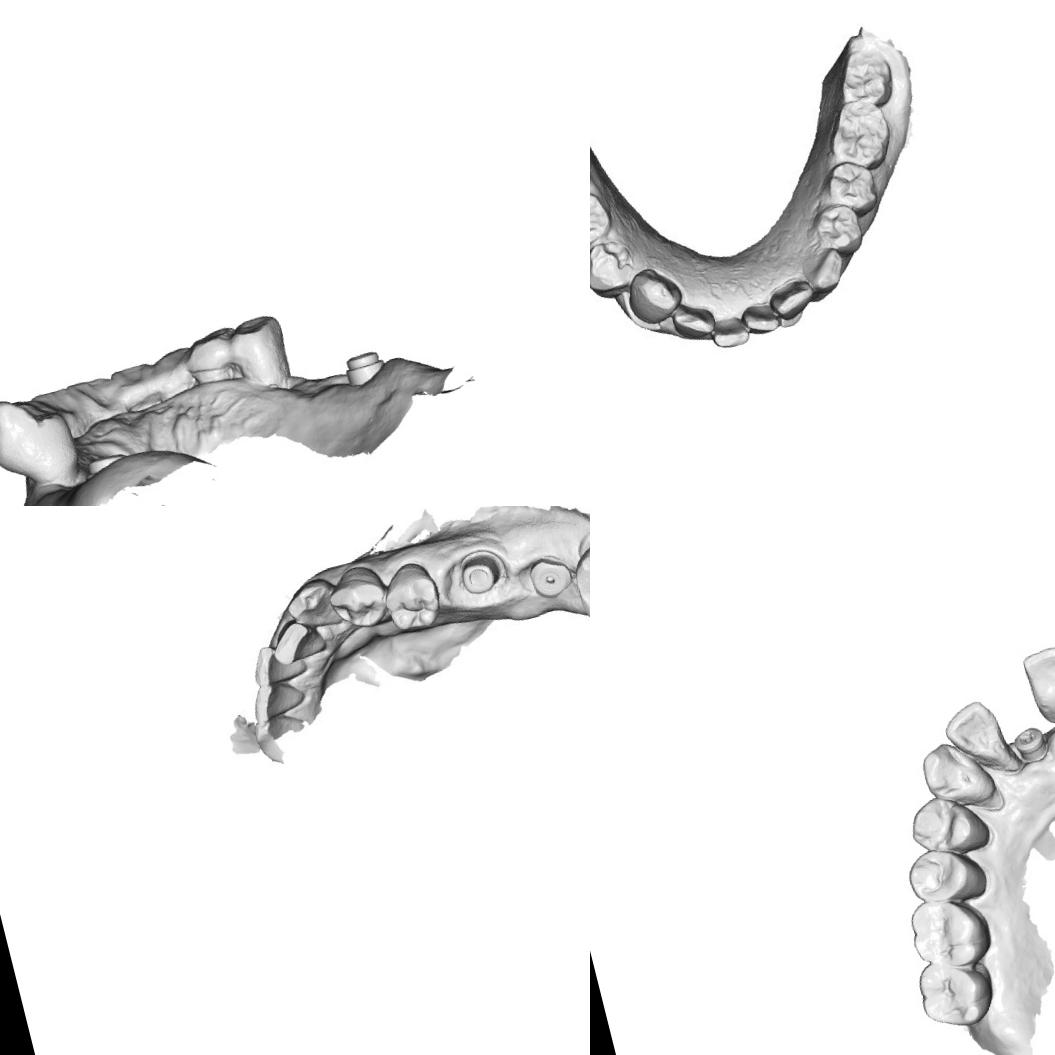abutment: (452, 543, 510, 600)
canine: (914, 730, 1000, 814), (280, 571, 348, 644), (619, 261, 684, 326), (798, 240, 850, 296)
implant: (522, 548, 579, 605), (335, 344, 388, 394)
implant_plus: (1008, 718, 1052, 766)
incisor: (936, 693, 1008, 771), (265, 613, 331, 668), (244, 636, 308, 689), (246, 674, 310, 726), (1018, 639, 1055, 720), (667, 295, 719, 343), (772, 278, 818, 322), (707, 312, 751, 352), (744, 298, 781, 337)
molar: (902, 887, 995, 976), (911, 949, 1001, 1036), (819, 92, 900, 178), (830, 44, 900, 115), (563, 518, 590, 634)
premolar: (900, 784, 993, 865), (374, 552, 452, 638), (901, 838, 991, 912), (323, 558, 387, 639), (820, 156, 880, 218), (805, 199, 868, 258), (590, 233, 640, 297), (590, 186, 617, 257)
